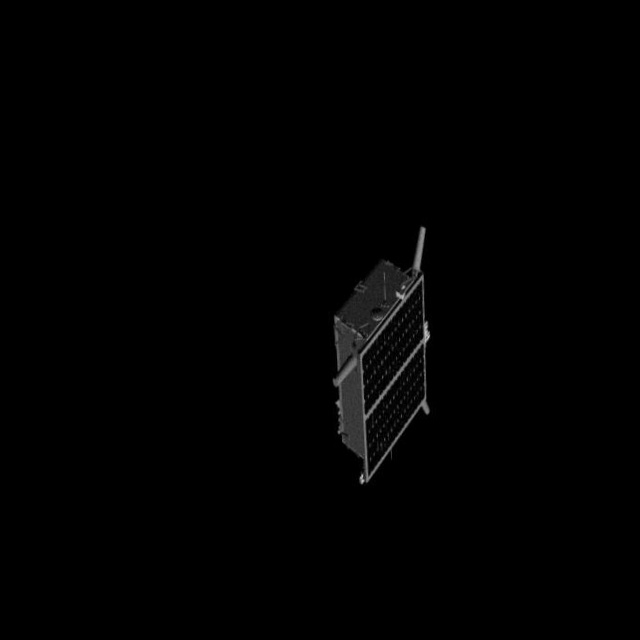satellite: (327, 222, 456, 487)
